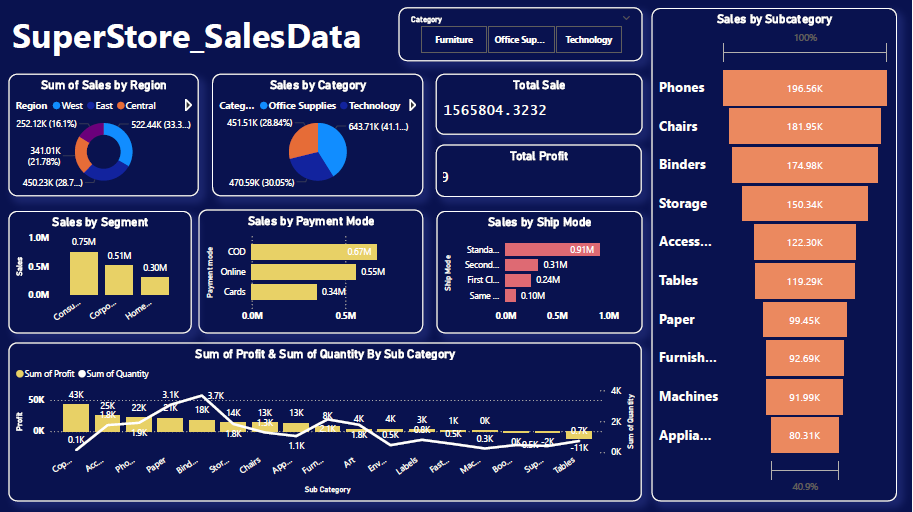

The page's visual inventory and layout, read from the dashboard file:
{"tool":"powerbi","page":{"name":"Page 1","canvas":[1280,720],"ordinal":0},"visuals":[{"type":"clusteredBarChart","title":"Sales by Payment Mode","fields":{"Category":["SuperStore_Sales_Dataset.Payment Mode"],"Y":["Sum(SuperStore_Sales_Dataset.Sales)"]},"box":[282.2,295.5,314.1,173],"z":0},{"type":"donutChart","fields":{"Y":["Sum(SuperStore_Sales_Dataset.Sales)"],"Category":["SuperStore_Sales_Dataset.Region"]},"box":[16,106.5,266.2,170.4],"z":1000},{"type":"columnChart","title":"Sales by Segment","fields":{"Category":["SuperStore_Sales_Dataset.Segment"],"Y":["Sum(SuperStore_Sales_Dataset.Sales)"]},"box":[16,298.2,255.6,170.4],"z":2000},{"type":"pieChart","title":"Sales by Category","fields":{"Category":["SuperStore_Sales_Dataset.Category"],"Y":["Sum(SuperStore_Sales_Dataset.Sales)"]},"box":[300.8,106.5,295.5,170.4],"z":3000},{"type":"funnel","title":"Sales by Subcategory","fields":{"Category":["SuperStore_Sales_Dataset.Sub-Category"],"Y":["Sum(SuperStore_Sales_Dataset.Sales)"]},"box":[916.3,14.3,342.9,689.8],"z":4000},{"type":"clusteredBarChart","title":"Sales by Ship Mode","fields":{"Category":["SuperStore_Sales_Dataset.Ship Mode"],"Y":["Sum(SuperStore_Sales_Dataset.Sales)"]},"box":[615,298.2,287.5,170.4],"z":5000},{"type":"lineStackedColumnComboChart","title":"Sum of Profit & Sum of Quantity By Sub Category","fields":{"Category":["SuperStore_Sales_Dataset.Sub-Category"],"Y":["Sum(SuperStore_Sales_Dataset.Profit)"],"Y2":["Sum(SuperStore_Sales_Dataset.Quantity)"]},"box":[16.3,481.6,885.7,222.4],"z":6000},{"type":"slicer","fields":{"Values":["SuperStore_Sales_Dataset.Category"]},"box":[561.7,13.3,340.8,74.5],"z":7000},{"type":"textbox","box":[16,13.3,545.8,74.5],"z":8000},{"type":"ScrollingTextVisual1448795304508","title":"Total Sale","fields":{"Measure Absolute":["Sum(SuperStore_Sales_Dataset.Sales)"]},"box":[614.1,106.3,289.4,84.6],"z":9000},{"type":"ScrollingTextVisual1448795304508","title":"Total Profit","fields":{"Measure Absolute":["Sum(SuperStore_Sales_Dataset.Profit)"]},"box":[614.1,204.7,287.4,72.8],"z":10000}]}

Visuals, with their boxes in screenshot pixels (x1, y1, x2, y2), scaled from the page's 1280x720 canvas onto the 913x512 screenshot:
"Sales by Payment Mode" clusteredBarChart: bbox(201, 210, 425, 333)
donutChart - Sum(SuperStore_Sales_Dataset.Sales) x SuperStore_Sales_Dataset.Region: bbox(11, 76, 201, 197)
"Sales by Segment" columnChart: bbox(11, 212, 194, 333)
"Sales by Category" pieChart: bbox(215, 76, 425, 197)
"Sales by Subcategory" funnel: bbox(654, 10, 898, 501)
"Sales by Ship Mode" clusteredBarChart: bbox(439, 212, 644, 333)
"Sum of Profit & Sum of Quantity By Sub Category" lineStackedColumnComboChart: bbox(12, 342, 643, 501)
slicer - SuperStore_Sales_Dataset.Category: bbox(401, 9, 644, 62)
textbox: bbox(11, 9, 401, 62)
"Total Sale" ScrollingTextVisual1448795304508: bbox(438, 76, 644, 136)
"Total Profit" ScrollingTextVisual1448795304508: bbox(438, 146, 643, 197)
